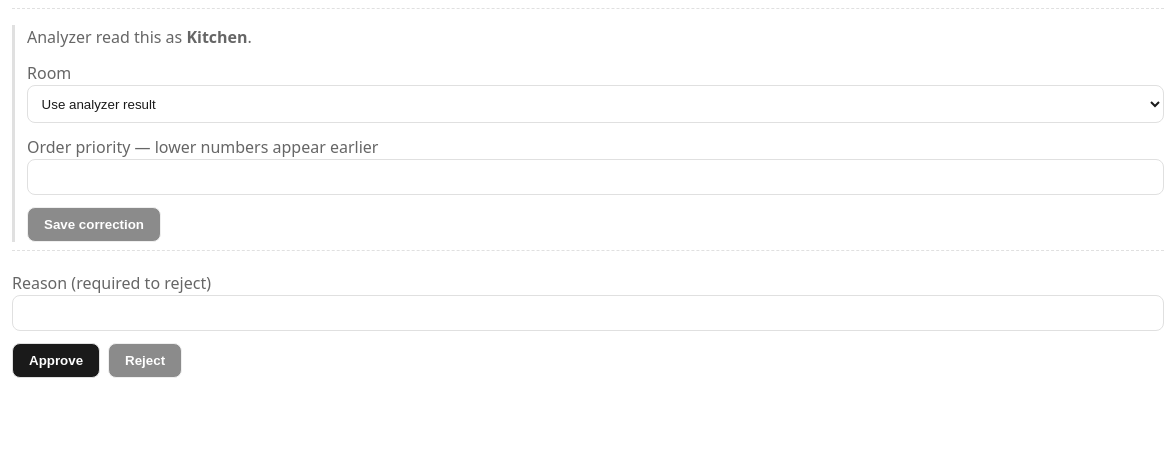
Scenario: unsaved corrections block the review decision › stays blocked after a failed save, because the edits are still unsaved
Select "Balcony" in the dropdown named "Room for a.jpg" at (596, 104), box [27,85,1164,123]
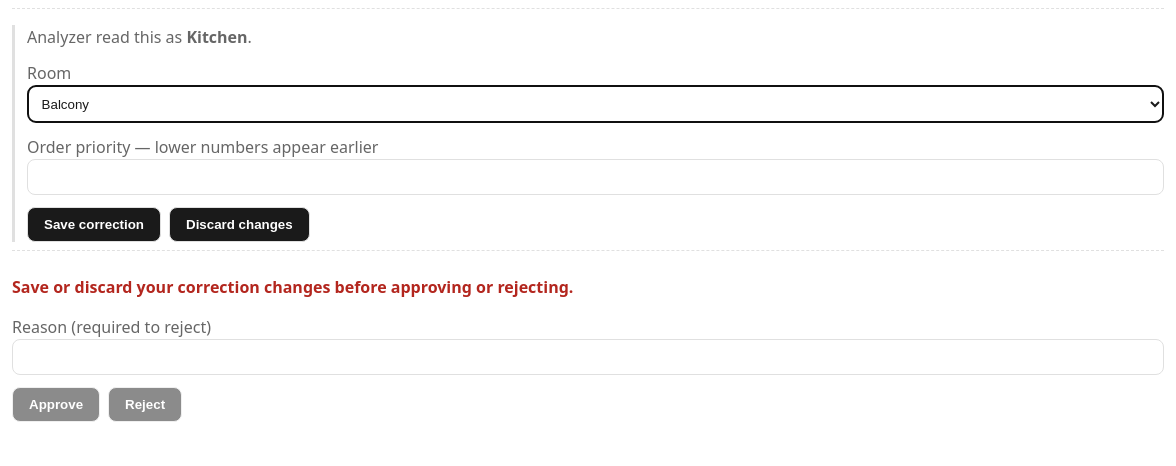
Click the button "Save correction" at (94, 225), box [27,207,161,242]
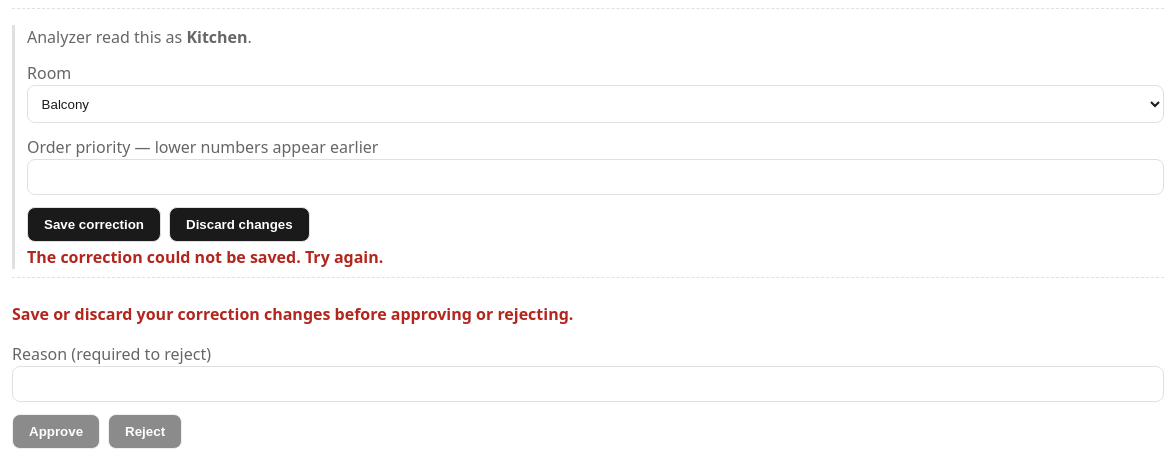
expect the button "Reject" is disabled: met, box [108,414,182,449]
expect the button "Approve" is disabled: met, box [12,414,100,449]
expect the text "The correction could not be saved. Try again." is shown: met, box [27,246,383,268]
